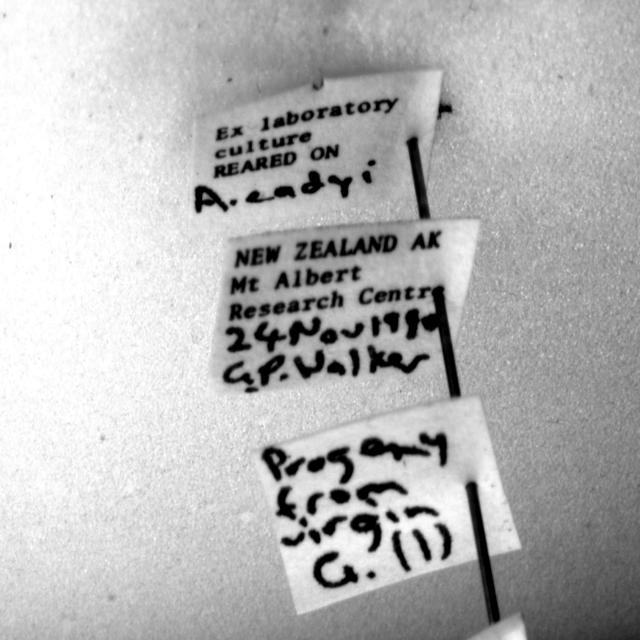hand_label: (254, 396, 520, 613)
mixed_label: (208, 219, 480, 396), (189, 69, 442, 234)
